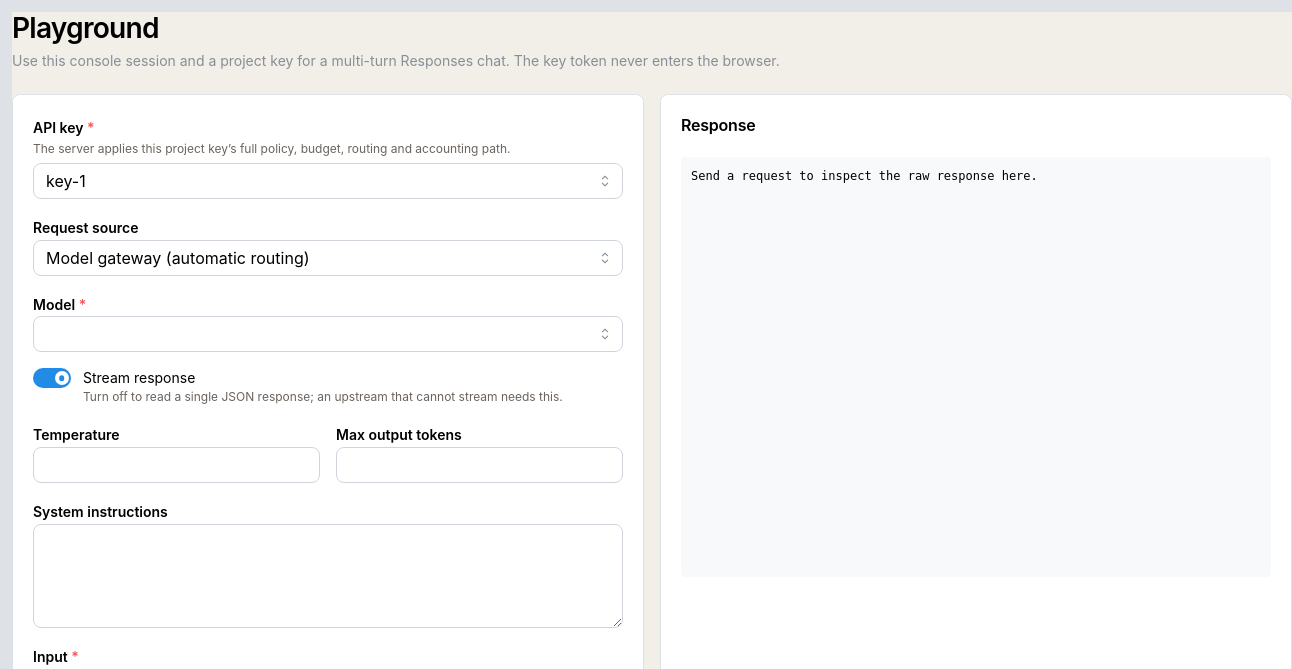
the playground model picker › accepts the release API string model shape without crashing the picker
What coordinates should you click on to do the following:
click the dropdown labelled "Model"
I would click on:
 (328, 334)
Its box is [33, 316, 623, 352].
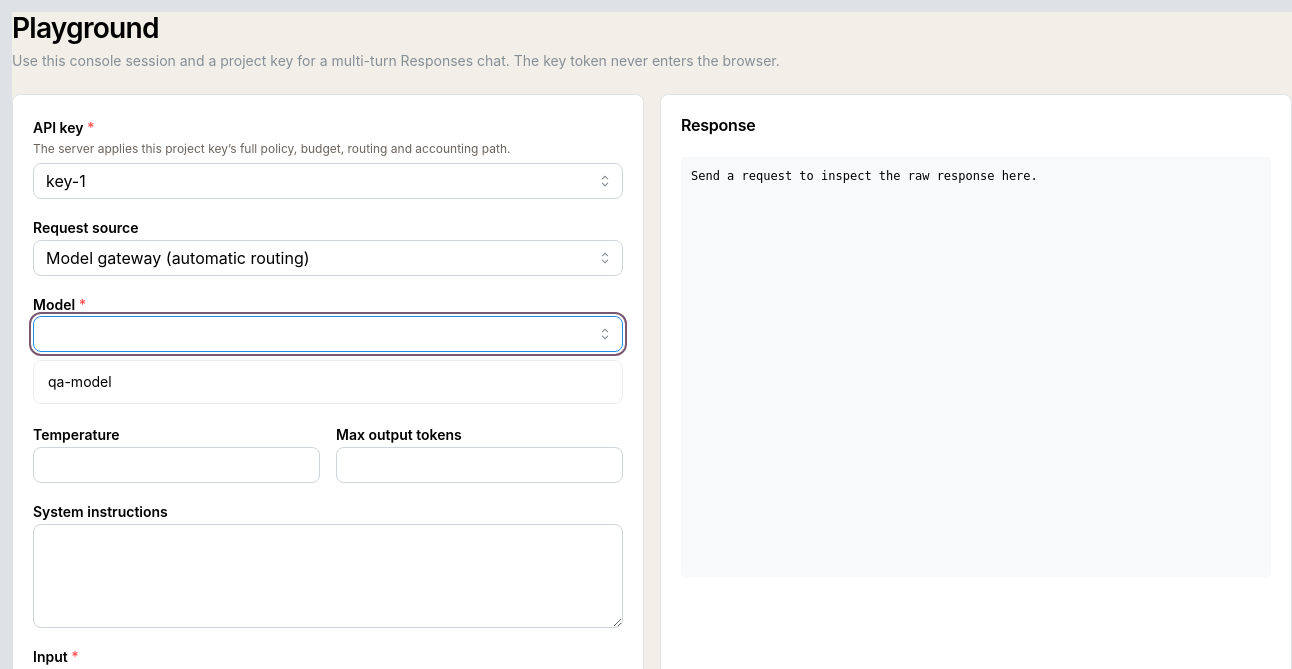
Now the option "qa-model" is shown, box [48, 373, 112, 390]
